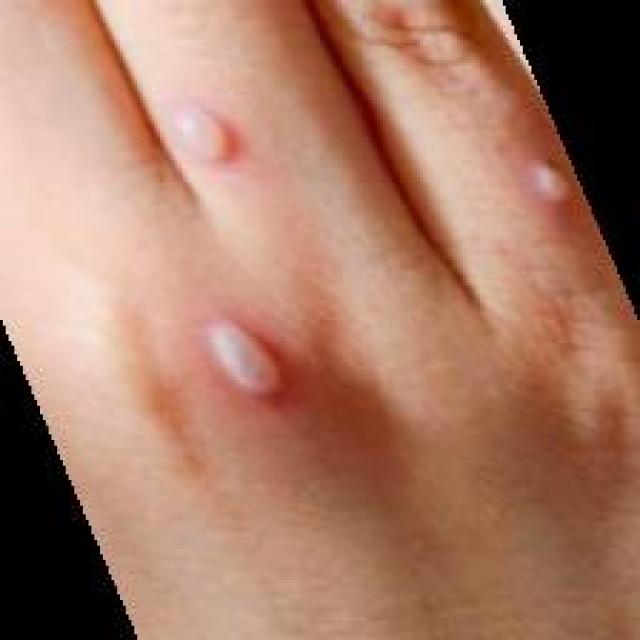others: (14, 0, 636, 560)
